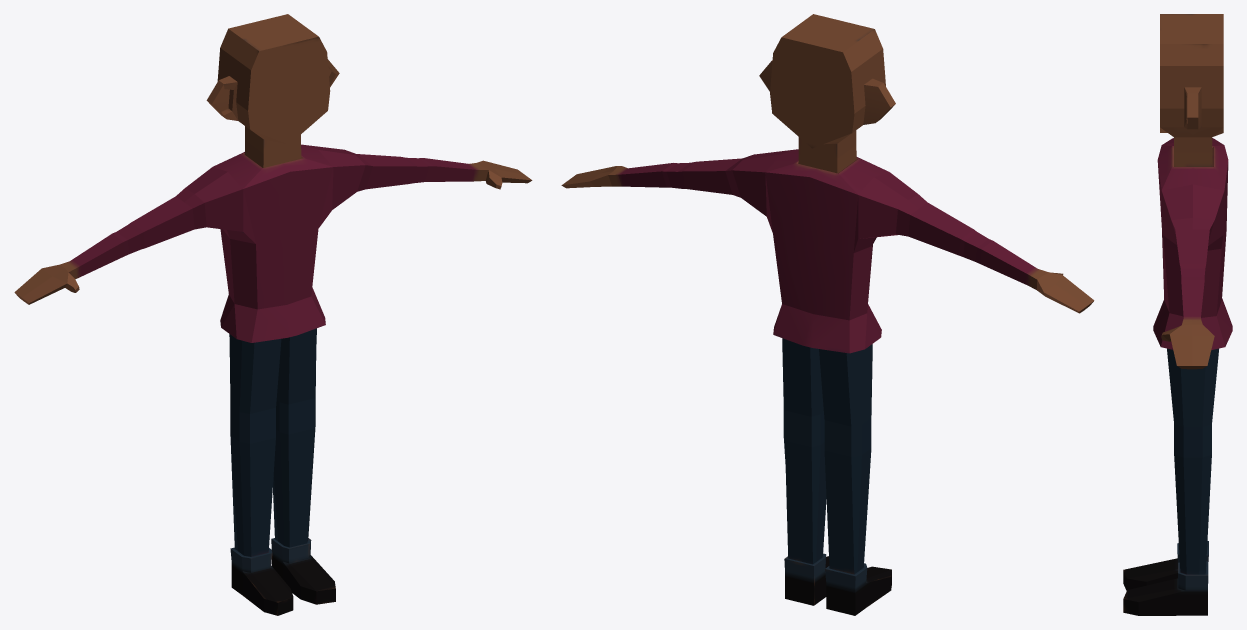
File: GirlColored.fbx
The picture shows the model from 3 angles, left to right: view 1: azimuth 30°, elevation 25°; view 2: azimuth 150°, elevation 25°; view 3: azimuth 270°, elevation 25°; orthographic projection. The views are drawn at different scales.
Visible parts, largest first — view 1: FemaleBody1; view 2: FemaleBody1; view 3: FemaleBody1.
Part boxes in pixels (x1=…): FemaleBody1: x1=14, y1=14, x2=532, y2=615; FemaleBody1: x1=561, y1=14, x2=1094, y2=615; FemaleBody1: x1=1123, y1=14, x2=1232, y2=615.
Bounding box in the file's own units: 49.75 × 52.17 × 9.08.
